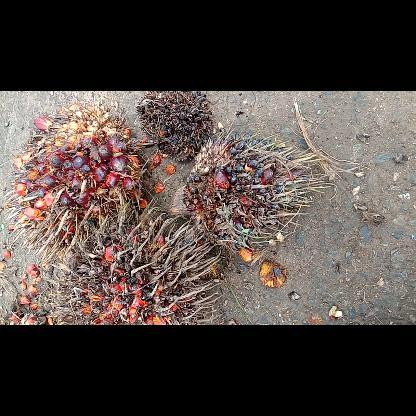TBS abnormal: (167, 130, 323, 264), (136, 92, 216, 162)
TBS masak: (10, 102, 166, 268)
Terlalu masak: (52, 206, 224, 324)
